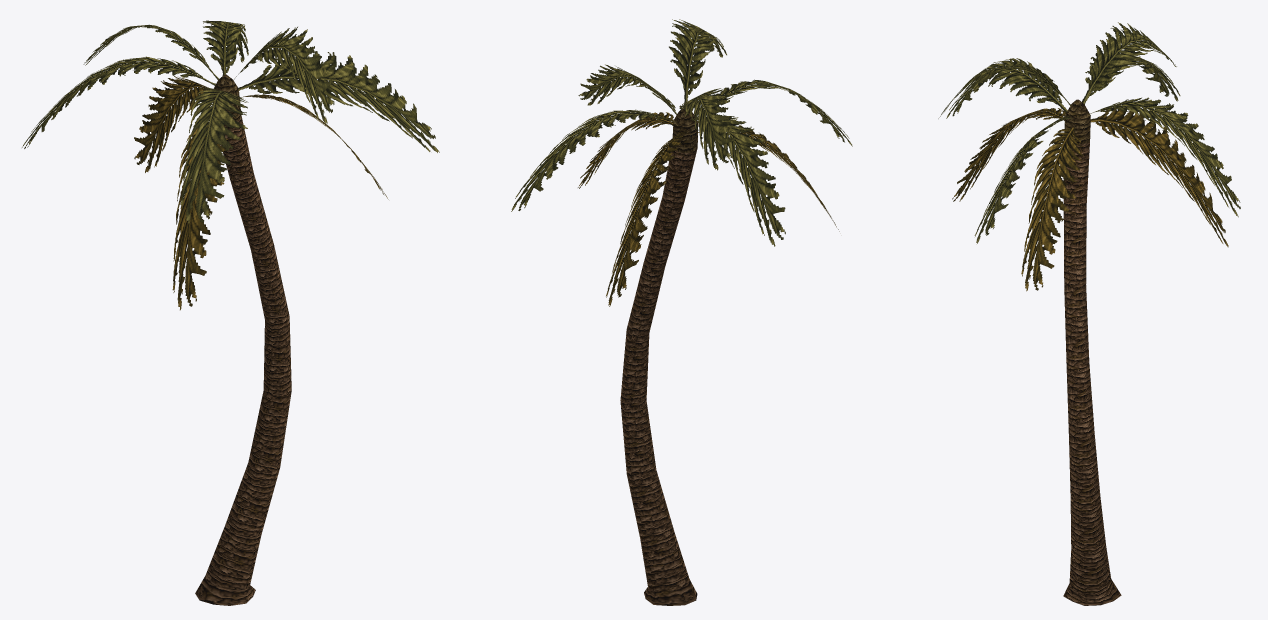
File: Palmeira_05_Velha_Copa_Rala.glb
The picture shows the model from 3 angles, left to right: view 1: azimuth 30°, elevation 25°; view 2: azimuth 150°, elevation 25°; view 3: azimuth 270°, elevation 25°; orthographic projection. The views are drawn at different scales.
Parts seen in each view (by area): view 1: Caule, Folhas abertas, Folhas inferiores, Folhas novas; view 2: Caule, Folhas abertas, Folhas inferiores, Folhas novas, Bainhas da copa; view 3: Caule, Folhas inferiores, Folhas abertas, Folhas novas, Bainhas da copa.
Boxes of the visible parts, <box> form: Caule: <box>195,115,291,605</box>; Folhas abertas: <box>22,20,439,223</box>; Folhas inferiores: <box>134,77,388,310</box>; Folhas novas: <box>83,24,334,123</box>; Caule: <box>620,147,697,605</box>; Folhas abertas: <box>511,64,852,246</box>; Folhas inferiores: <box>578,112,839,306</box>; Folhas novas: <box>669,19,735,170</box>; Bainhas da copa: <box>672,107,698,152</box>; Caule: <box>1063,142,1121,605</box>; Folhas inferiores: <box>952,104,1228,291</box>; Folhas abertas: <box>938,52,1240,243</box>; Folhas novas: <box>946,22,1176,118</box>; Bainhas da copa: <box>1064,99,1090,144</box>.
Size of the model in its own units: 6.49 by 10.69 by 5.94.
2 materials, 2 textured.
